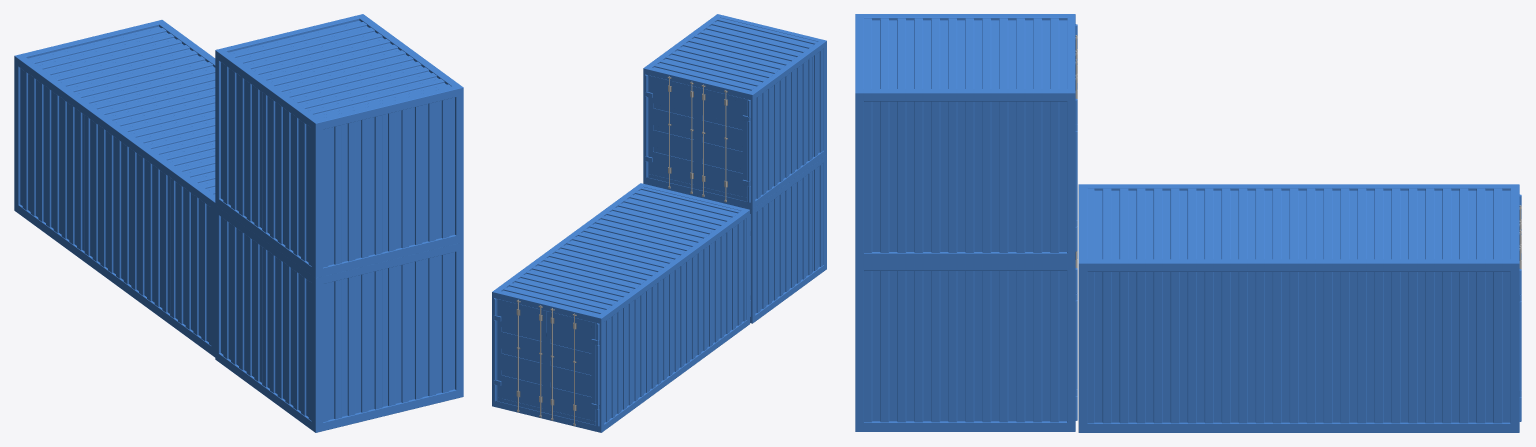
The model's file is Shipping Containers.fbx.
3 views of the same model, side by side, from view 1: azimuth 30°, elevation 25°; view 2: azimuth 150°, elevation 25°; view 3: azimuth 270°, elevation 25° (orthographic). The views are drawn at different scales.
Parts seen in each view (by area): view 1: Shipping Container 10ft.001, Shipping Container 20ft, Shipping Container 10ft; view 2: Shipping Container 20ft, Shipping Container 10ft.001, Shipping Container 10ft; view 3: Shipping Container 20ft, Shipping Container 10ft.001, Shipping Container 10ft.
Part boxes in pixels (x1,y1,x2,y2): Shipping Container 10ft.001: [215, 14, 463, 278]; Shipping Container 20ft: [14, 20, 215, 357]; Shipping Container 10ft: [215, 205, 463, 432]; Shipping Container 20ft: [492, 183, 749, 432]; Shipping Container 10ft.001: [643, 14, 826, 209]; Shipping Container 10ft: [643, 155, 826, 323]; Shipping Container 20ft: [1078, 184, 1521, 432]; Shipping Container 10ft.001: [855, 14, 1077, 262]; Shipping Container 10ft: [855, 251, 1077, 431].
Bounding box in the file's own units: 262 × 517 × 922.
